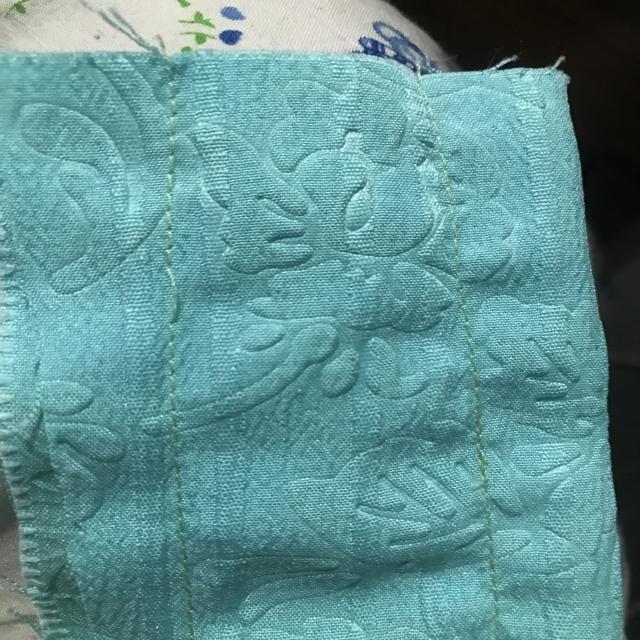skip: (146, 245, 207, 341)
